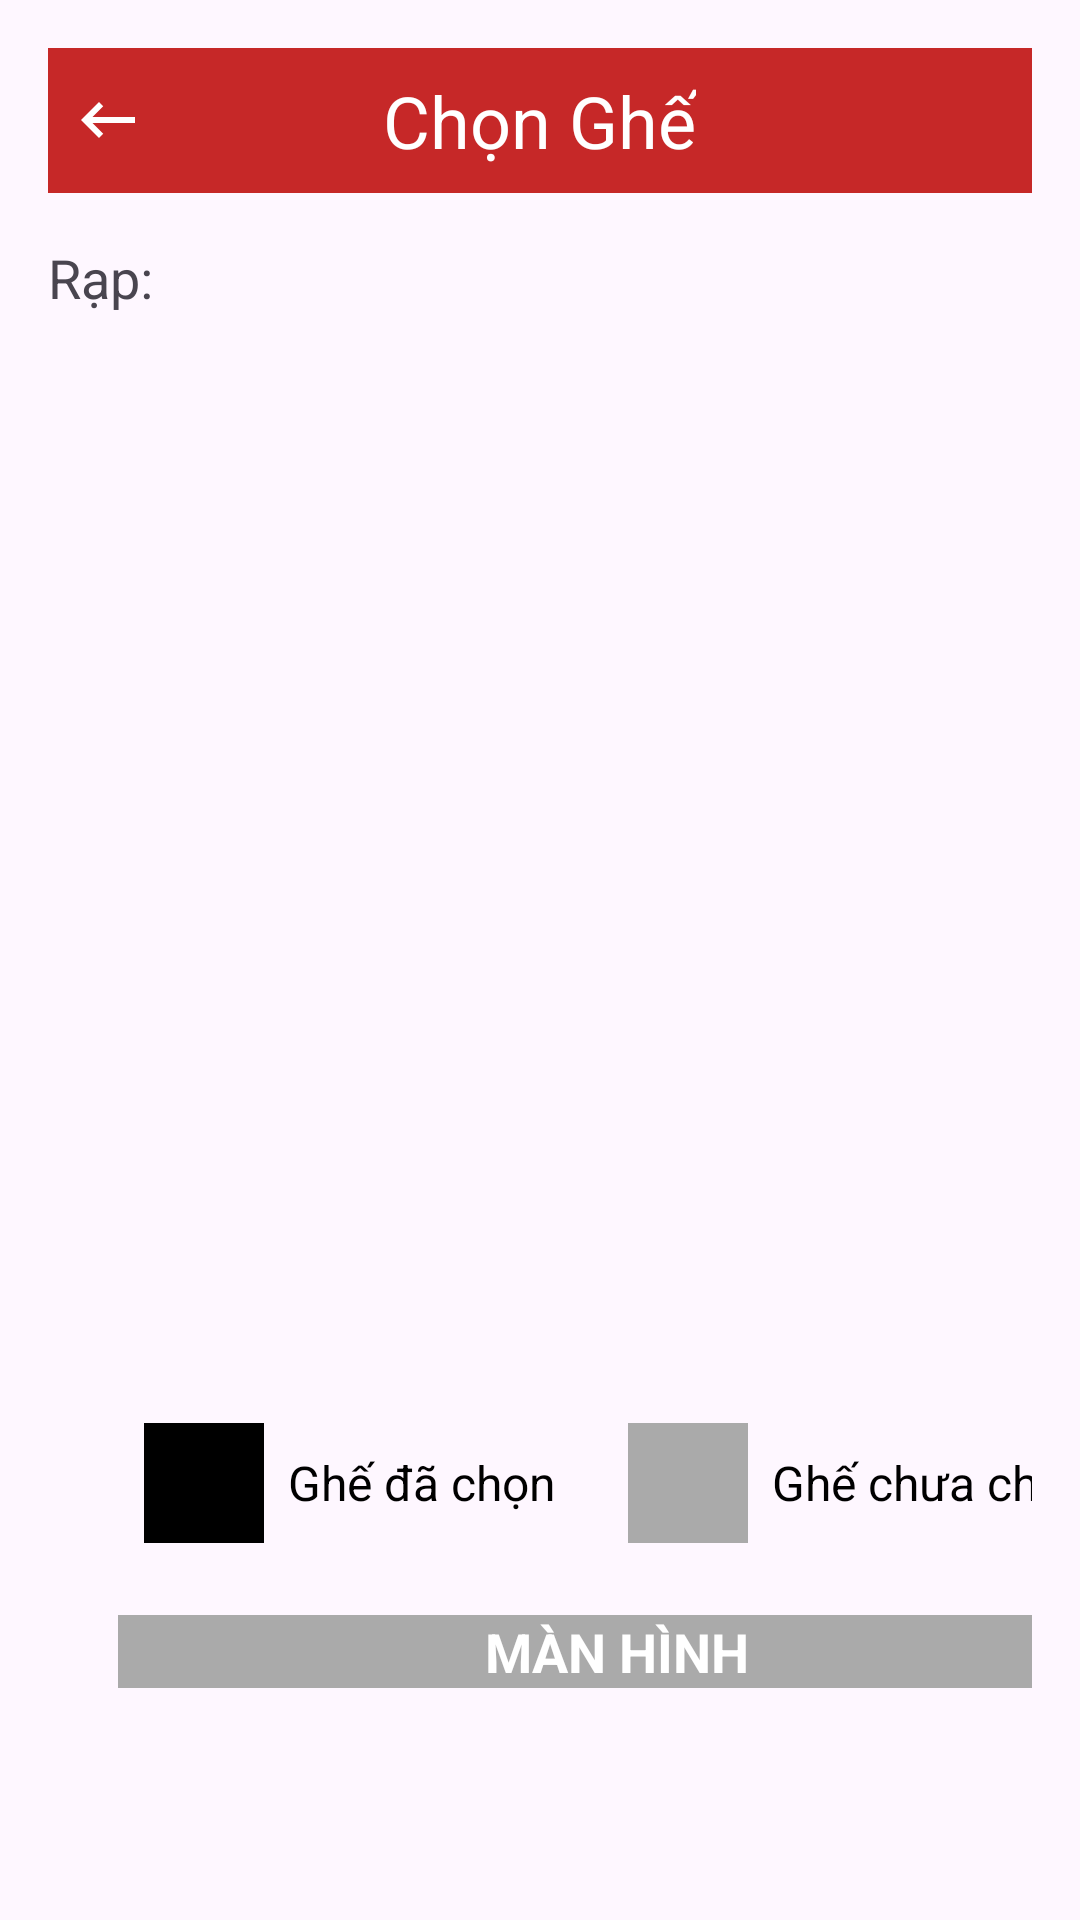

Named icons in this screenshot (1080x1920) and their bounding boxes, (x1, y1, x2, y2):
keyboard backspace: (81, 102, 135, 138)
